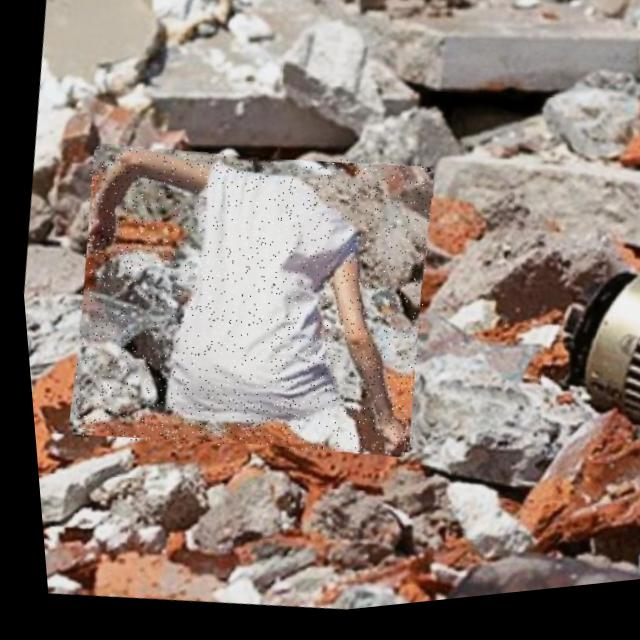Person in Rubble: (44, 121, 448, 492)
